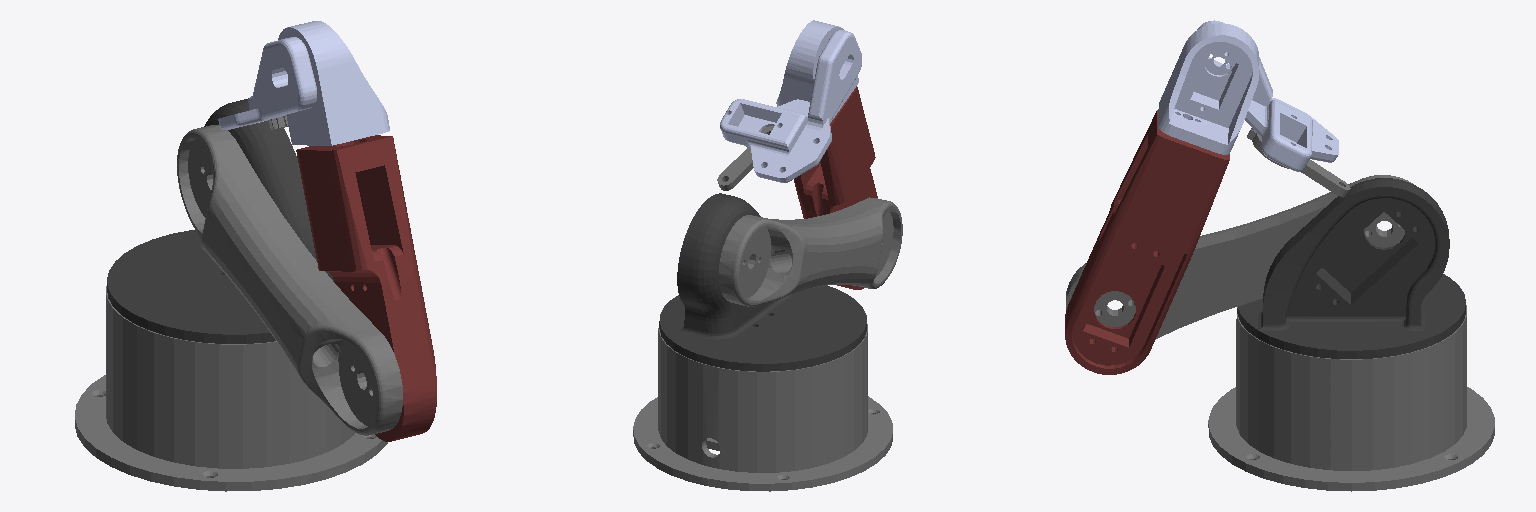
URDF robot description (robotic_armv5):
<?xml version="1.0" encoding="utf-8"?>
<!-- This URDF was automatically created by SolidWorks to URDF Exporter! Originally created by [author] ([email redacted]) 
     Commit Version: 1.6.0-4-g7f85cfe  Build Version: 1.6.7995.38578
     For more information, please see http://wiki.ros.org/sw_urdf_exporter -->
<robot
  name="robotic_armv5">
  
  <link name="world"/>
  <joint name="base_joint" type="fixed">
    <parent link="world"/>
    <child link="base_link"/>
    <origin rpy="0 0 0" xyz="0.0 0.0 0.0"/>
  </joint>
  
  <link
    name="base_link">
    <inertial>
      <origin
        xyz="0.0429561495420343 -0.0373422882812477 0.0221061025611676"
        rpy="0 0 0" />
      <mass
        value="0.0945949211926352" />
      <inertia
        ixx="0.000134830281303919"
        ixy="-3.8020673300651E-11"
        ixz="7.74473521544527E-12"
        iyy="0.000128859606375094"
        iyz="3.75932204347746E-06"
        izz="0.000205640336126447" />
    </inertial>
    <visual>
      <origin
        xyz="0 0 0"
        rpy="0 0 0" />
      <geometry>
        <mesh
          filename="package://robotic_armv5/meshes/base.STL" />
      </geometry>
      <material
        name="">
        <color
          rgba="0.498039215686275 0.498039215686275 0.498039215686275 1" />
      </material>
    </visual>
    <collision>
      <origin
        xyz="0 0 0"
        rpy="0 0 0" />
      <geometry>
        <mesh
          filename="package://robotic_armv5/meshes/base.STL" />
      </geometry>
    </collision>
  </link>
  <link
    name="link1">
    <inertial>
      <origin
        xyz="0.00749454007241854 0.0193828163256039 -0.00142948492015699"
        rpy="0 0 0" />
      <mass
        value="0.073647611800473" />
      <inertia
        ixx="6.79530047369966E-05"
        ixy="-6.42964713687666E-06"
        ixz="2.54581584652316E-07"
        iyy="6.01334951833347E-05"
        iyz="6.72993174737716E-06"
        izz="5.02817215433536E-05" />
    </inertial>
    <visual>
      <origin
        xyz="0 0 0"
        rpy="0 0 0" />
      <geometry>
        <mesh
          filename="package://robotic_armv5/meshes/link1.STL" />
      </geometry>
      <material
        name="">
        <color
          rgba="0.298039215686275 0.298039215686275 0.298039215686275 1" />
      </material>
    </visual>
    <collision>
      <origin
        xyz="0 0 0"
        rpy="0 0 0" />
      <geometry>
        <mesh
          filename="package://robotic_armv5/meshes/link1.STL" />
      </geometry>
    </collision>
  </link>
  <joint
    name="joint1"
    type="revolute">
    <origin
      xyz="0.0429561396740566 -0.0384393042868427 0.056"
      rpy="1.5707963267949 0 0" />
    <parent
      link="base_link" />
    <child
      link="link1" />
    <axis
      xyz="0 -1 0" />
    <limit
      lower="0"
      upper="6.18"
      effort="300"
      velocity="3" />
  </joint>
  <link
    name="link2">
    <inertial>
      <origin
        xyz="6.50282890035658E-08 0.0599997172713297 -0.00377214166417615"
        rpy="0 0 0" />
      <mass
        value="0.0640687245271876" />
      <inertia
        ixx="0.00010377261085708"
        ixy="-5.45241564791547E-10"
        ixz="1.18295196793459E-10"
        iyy="9.22942631848292E-06"
        iyz="-5.56682845093493E-11"
        izz="0.000108642794615974" />
    </inertial>
    <visual>
      <origin
        xyz="0 0 0"
        rpy="0 0 0" />
      <geometry>
        <mesh
          filename="package://robotic_armv5/meshes/link2.STL" />
      </geometry>
      <material
        name="">
        <color
          rgba="0.498039215686275 0.498039215686275 0.498039215686275 1" />
      </material>
    </visual>
    <collision>
      <origin
        xyz="0 0 0"
        rpy="0 0 0" />
      <geometry>
        <mesh
          filename="package://robotic_armv5/meshes/link2.STL" />
      </geometry>
    </collision>
  </link>
  <joint
    name="joint2"
    type="revolute">
    <origin
      xyz="0 0.04028 -0.01391"
      rpy="1.5707963267949 -0.313986740256399 1.5707963267949" />
    <parent
      link="link1" />
    <child
      link="link2" />
    <axis
      xyz="0 0 1" />
    <limit
      lower="-3.8"
      upper="0"
      effort="300"
      velocity="3" />
  </joint>
  <link
    name="link3">
    <inertial>
      <origin
        xyz="0.0417117896528899 -3.16928197565958E-05 0.0097198304769113"
        rpy="0 0 0" />
      <mass
        value="0.0470968798795467" />
      <inertia
        ixx="8.72244098821336E-06"
        ixy="6.95930810508285E-08"
        ixz="4.03338777148558E-07"
        iyy="5.13992059850301E-05"
        iyz="-1.76806923302123E-10"
        izz="5.46625808472262E-05" />
    </inertial>
    <visual>
      <origin
        xyz="0 0 0"
        rpy="0 0 0" />
      <geometry>
        <mesh
          filename="package://robotic_armv5/meshes/link3.STL" />
      </geometry>
      <material
        name="">
        <color
          rgba="0.501960784313725 0.250980392156863 0.250980392156863 1" />
      </material>
    </visual>
    <collision>
      <origin
        xyz="0 0 0"
        rpy="0 0 0" />
      <geometry>
        <mesh
          filename="package://robotic_armv5/meshes/link3.STL" />
      </geometry>
    </collision>
  </link>
  <joint
    name="joint3"
    type="revolute">
    <origin
      xyz="0 0.12 0"
      rpy="0 0 -0.692630092723492" />
    <parent
      link="link2" />
    <child
      link="link3" />
    <axis
      xyz="0 0 -1" />
    <limit
      lower="-4.6"
      upper="0"
      effort="300"
      velocity="3" />
  </joint>
  <link
    name="link4">
    <inertial>
      <origin
        xyz="0.00504586293351733 0.0115219692928798 -0.00527096853115504"
        rpy="0 0 0" />
      <mass
        value="0.0164702455054398" />
      <inertia
        ixx="3.89978189755359E-06"
        ixy="1.16381999336043E-08"
        ixz="-3.99544993552546E-09"
        iyy="2.60895976423231E-06"
        iyz="5.77158433862916E-07"
        izz="5.00773419666806E-06" />
    </inertial>
    <visual>
      <origin
        xyz="0 0 0"
        rpy="0 0 0" />
      <geometry>
        <mesh
          filename="package://robotic_armv5/meshes/link4.STL" />
      </geometry>
      <material
        name="">
        <color
          rgba="0.792156862745098 0.819607843137255 0.933333333333333 1" />
      </material>
    </visual>
    <collision>
      <origin
        xyz="0 0 0"
        rpy="0 0 0" />
      <geometry>
        <mesh
          filename="package://robotic_armv5/meshes/link4.STL" />
      </geometry>
    </collision>
  </link>
  <joint
    name="joint4"
    type="revolute">
    <origin
      xyz="0.098035840487587 0.00529999999999994 0.00949999999999812"
      rpy="0 -0.00868944615501817 -1.5707963267949" />
    <parent
      link="link3" />
    <child
      link="link4" />
    <axis
      xyz="0 1 0" />
    <limit
      lower="0"
      upper="6.14"
      effort="300"
      velocity="3" />
  </joint>
  <link
    name="link5">
    <inertial>
      <origin
        xyz="-0.00984244355977394 0.00644034608828949 0.0249279012029386"
        rpy="0 0 0" />
      <mass
        value="0.0160406565319718" />
      <inertia
        ixx="7.25769937868085E-06"
        ixy="-4.04930697926541E-07"
        ixz="-1.78593654937495E-06"
        iyy="9.00817586576248E-06"
        iyz="-1.34077989984317E-06"
        izz="3.30097993622558E-06" />
    </inertial>
    <visual>
      <origin
        xyz="0 0 0"
        rpy="0 0 0" />
      <geometry>
        <mesh
          filename="package://robotic_armv5/meshes/link5.STL" />
      </geometry>
      <material
        name="">
        <color
          rgba="0.792156862745098 0.819607843137255 0.933333333333333 1" />
      </material>
    </visual>
    <collision>
      <origin
        xyz="0 0 0"
        rpy="0 0 0" />
      <geometry>
        <mesh
          filename="package://robotic_armv5/meshes/link5.STL" />
      </geometry>
    </collision>
  </link>
  <joint
    name="joint5"
    type="revolute">
    <origin
      xyz="0.00500000000000009 0.0217141595124129 0"
      rpy="-2.76716019405184 -1.57079631189374 -0.499584194959922" />
    <parent
      link="link4" />
    <child
      link="link5" />
    <axis
      xyz="1 0 0" />
    <limit
      lower="0"
      upper="3.14"
      effort="300"
      velocity="3" />
  </joint>
  <link
    name="link6">
    <inertial>
      <origin
        xyz="0.00521587337108415 -0.00198718595860886 -0.00109161668132234"
        rpy="0 0 0" />
      <mass
        value="0.00258180823330292" />
      <inertia
        ixx="1.53534758837343E-07"
        ixy="1.172005878264E-07"
        ixz="1.35657620458697E-22"
        iyy="3.05168675421152E-07"
        iyz="8.60267837055149E-23"
        izz="4.5181861230302E-07" />
    </inertial>
    <visual>
      <origin
        xyz="0 0 0"
        rpy="0 0 0" />
      <geometry>
        <mesh
          filename="package://robotic_armv5/meshes/link6.STL" />
      </geometry>
      <material
        name="">
        <color
          rgba="0.498039215686275 0.498039215686275 0.498039215686275 1" />
      </material>
    </visual>
    <collision>
      <origin
        xyz="0 0 0"
        rpy="0 0 0" />
      <geometry>
        <mesh
          filename="package://robotic_armv5/meshes/link6.STL" />
      </geometry>
    </collision>
  </link>
  <joint
    name="joint6"
    type="revolute">
    <origin
      xyz="0.0039 0.014908 0.038"
      rpy="-1.5708 -1.3862 -3.1416" />
    <parent
      link="link5" />
    <child
      link="link6" />
    <axis
      xyz="0 0 1" />
    <limit
      lower="-3.14"
      upper="0"
      effort="300"
      velocity="3" />
  </joint>
  
  <transmission name="trans1">
	<type>transmission_interface/SimpleTransmission</type>
	<joint name="joint1">
	<hardwareInterface>hardware_interface/PositionJointInterface</hardwareInterface>
	</joint>
	<actuator name="motor1">
	<hardwareInterface>hardware_interface/PositionJointInterface</hardwareInterface>
		<mechanicalReduction>1</mechanicalReduction>
	</actuator>
  </transmission>
  
  <transmission name="trans2">
	<type>transmission_interface/SimpleTransmission</type>
	<joint name="joint2">
	<hardwareInterface>hardware_interface/PositionJointInterface</hardwareInterface>
	</joint>
	<actuator name="motor2">
	<hardwareInterface>hardware_interface/PositionJointInterface</hardwareInterface>
		<mechanicalReduction>1</mechanicalReduction>
	</actuator>
  </transmission>
  
  <transmission name="trans3">
	<type>transmission_interface/SimpleTransmission</type>
	<joint name="joint3">
	<hardwareInterface>hardware_interface/PositionJointInterface</hardwareInterface>
	</joint>
	<actuator name="motor3">
	<hardwareInterface>hardware_interface/PositionJointInterface</hardwareInterface>
		<mechanicalReduction>1</mechanicalReduction>
	</actuator>
  </transmission>
  
  <transmission name="trans4">
	<type>transmission_interface/SimpleTransmission</type>
	<joint name="joint4">
	<hardwareInterface>hardware_interface/PositionJointInterface</hardwareInterface>
	</joint>
	<actuator name="motor4">
	<hardwareInterface>hardware_interface/PositionJointInterface</hardwareInterface>
		<mechanicalReduction>1</mechanicalReduction>
	</actuator>
  </transmission>
  
  <transmission name="trans5">
	<type>transmission_interface/SimpleTransmission</type>
	<joint name="joint5">
	<hardwareInterface>hardware_interface/PositionJointInterface</hardwareInterface>
	</joint>
	<actuator name="motor5">
	<hardwareInterface>hardware_interface/PositionJointInterface</hardwareInterface>
		<mechanicalReduction>1</mechanicalReduction>
	</actuator>
  </transmission>
  
  <transmission name="trans6">
	<type>transmission_interface/SimpleTransmission</type>
	<joint name="joint6">
	<hardwareInterface>hardware_interface/PositionJointInterface</hardwareInterface>
	</joint>
	<actuator name="motor6">
	<hardwareInterface>hardware_interface/PositionJointInterface</hardwareInterface>
		<mechanicalReduction>1</mechanicalReduction>
	</actuator>
  </transmission>

  <gazebo>
	<plugin name="control"
filename="libgazebo_ros_control.so">
		<robotNamespace>/</robotNamespace>
	</plugin>
  </gazebo>
  
  <gazebo reference="link1">
	<selfCollide>true</selfCollide>
  </gazebo>
  
  <gazebo reference="link2">
	<selfCollide>true</selfCollide>
  </gazebo>
  
  <gazebo reference="link3">
	<selfCollide>true</selfCollide>
  </gazebo>
  
  <gazebo reference="link4">
	<selfCollide>true</selfCollide>
  </gazebo>
  
  <gazebo reference="link5">
	<selfCollide>true</selfCollide>
  </gazebo>
  
  <gazebo reference="link6">
	<selfCollide>true</selfCollide>
  </gazebo>
  
</robot>

--- What the picture shows (computed from the rendered views, not written in the file) ---
3 views of the same robot in one strip: view 1: azimuth 30°, elevation 25°; view 2: azimuth 150°, elevation 25°; view 3: azimuth 270°, elevation 25° (orthographic).
Robot: robotic_armv5 — 8 links, 7 joints (6 revolute, 1 fixed); root link world; default pose: every joint at zero.
Visible links, largest first — view 1: base_link, link2, link3, link1, link4, link5; view 2: base_link, link1, link2, link5, link3, link4, link6; view 3: base_link, link1, link3, link2, link4, link5, link6.
Boxes of the visible links, <box> form: base_link: <box>75,286,387,491</box>; link2: <box>177,125,402,435</box>; link3: <box>296,135,436,441</box>; link1: <box>107,98,334,343</box>; link4: <box>278,21,389,145</box>; link5: <box>218,37,316,129</box>; base_link: <box>633,324,892,491</box>; link1: <box>659,193,866,371</box>; link2: <box>719,197,902,306</box>; link5: <box>720,30,861,182</box>; link3: <box>794,86,877,289</box>; link4: <box>776,20,858,122</box>; link6: <box>717,126,773,190</box>; base_link: <box>1208,305,1494,491</box>; link1: <box>1237,178,1465,358</box>; link3: <box>1065,110,1229,374</box>; link2: <box>1066,175,1412,339</box>; link4: <box>1158,23,1258,154</box>; link5: <box>1197,20,1338,171</box>; link6: <box>1247,128,1350,197</box>.
Bounding box of the posed robot: 0.1215 × 0.1823 × 0.1885 m (x, y, z).
Meshes: 7 distinct files referenced, 7 mesh visuals loaded (7 binary STL).